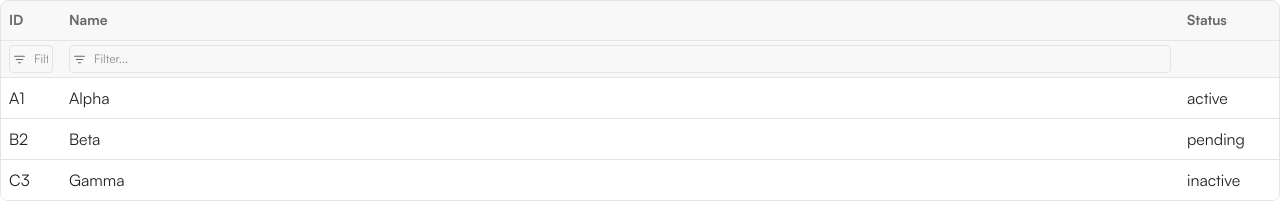
it: Table — empty state › shows empty message after filtering eliminates all rows
Type "zzzzz" into the field named "Filter Name" at (620, 59), box [69,45,1171,73]
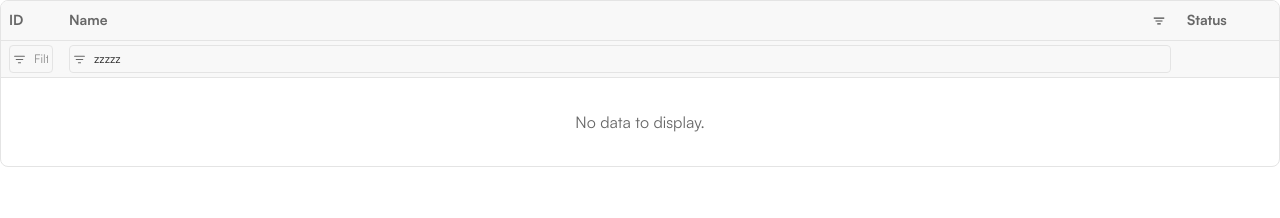
Now the text "No data to display." is shown, box [575,112,705,132]
